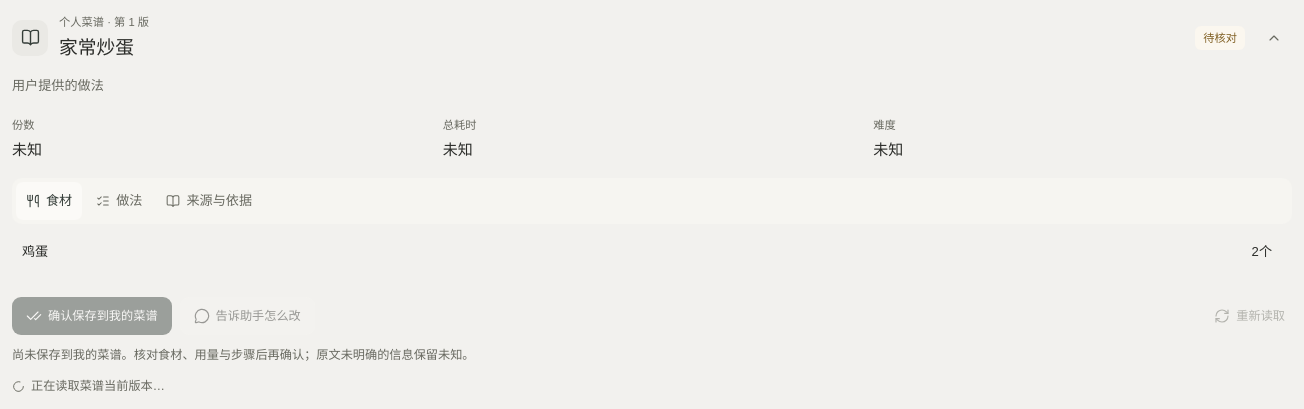
Test case: chat recipe review › keeps a late read failure visible even after the recipe card was folded
This screenshot has width=1304, height=409.
Click the button named "收起个人菜谱：家常炒蛋": coordinates (1274, 38) [1256, 20, 1292, 56]
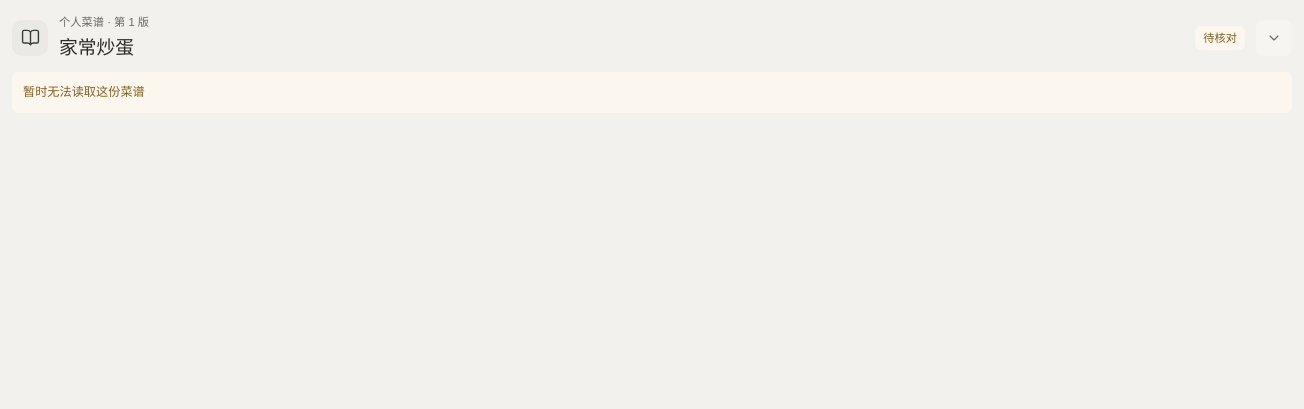
Expected: the message "暂时无法读取这份菜谱" is shown, [12, 72, 1292, 113]
Expected: the message reads "暂时无法读取这份菜谱", [23, 85, 145, 99]
Expected: the button named "展开个人菜谱：家常炒蛋" is collapsed, [1256, 20, 1292, 56]
